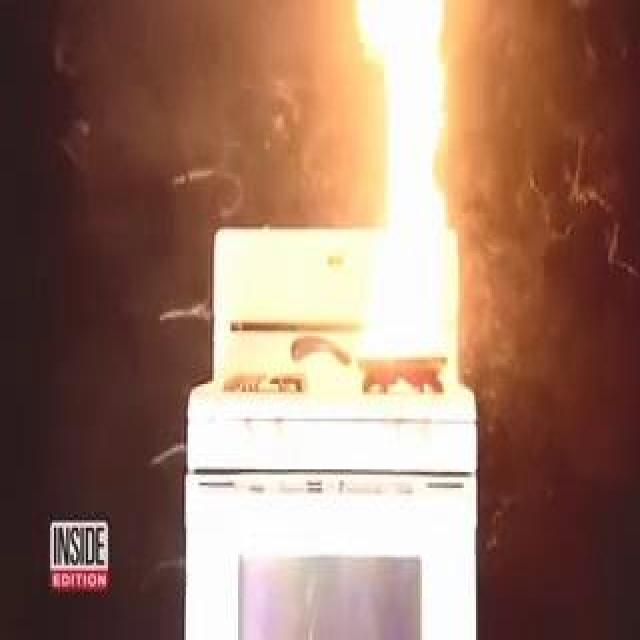Fire: (355, 226, 447, 426)
